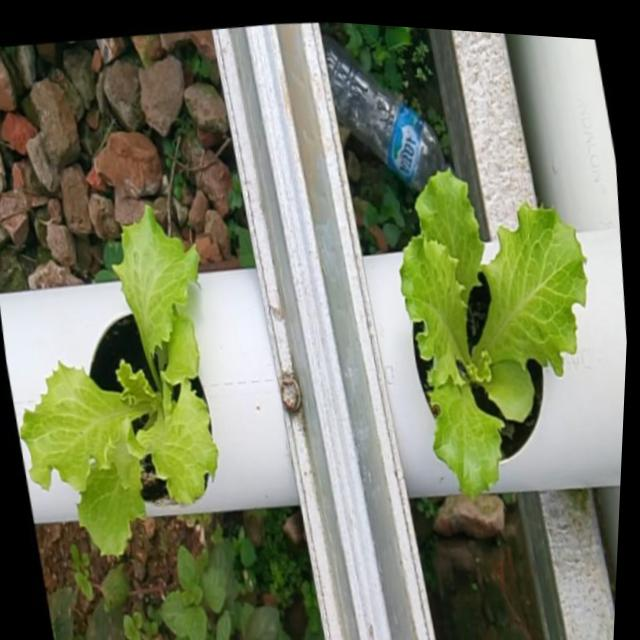Baby: (31, 206, 225, 552), (404, 167, 591, 495)
